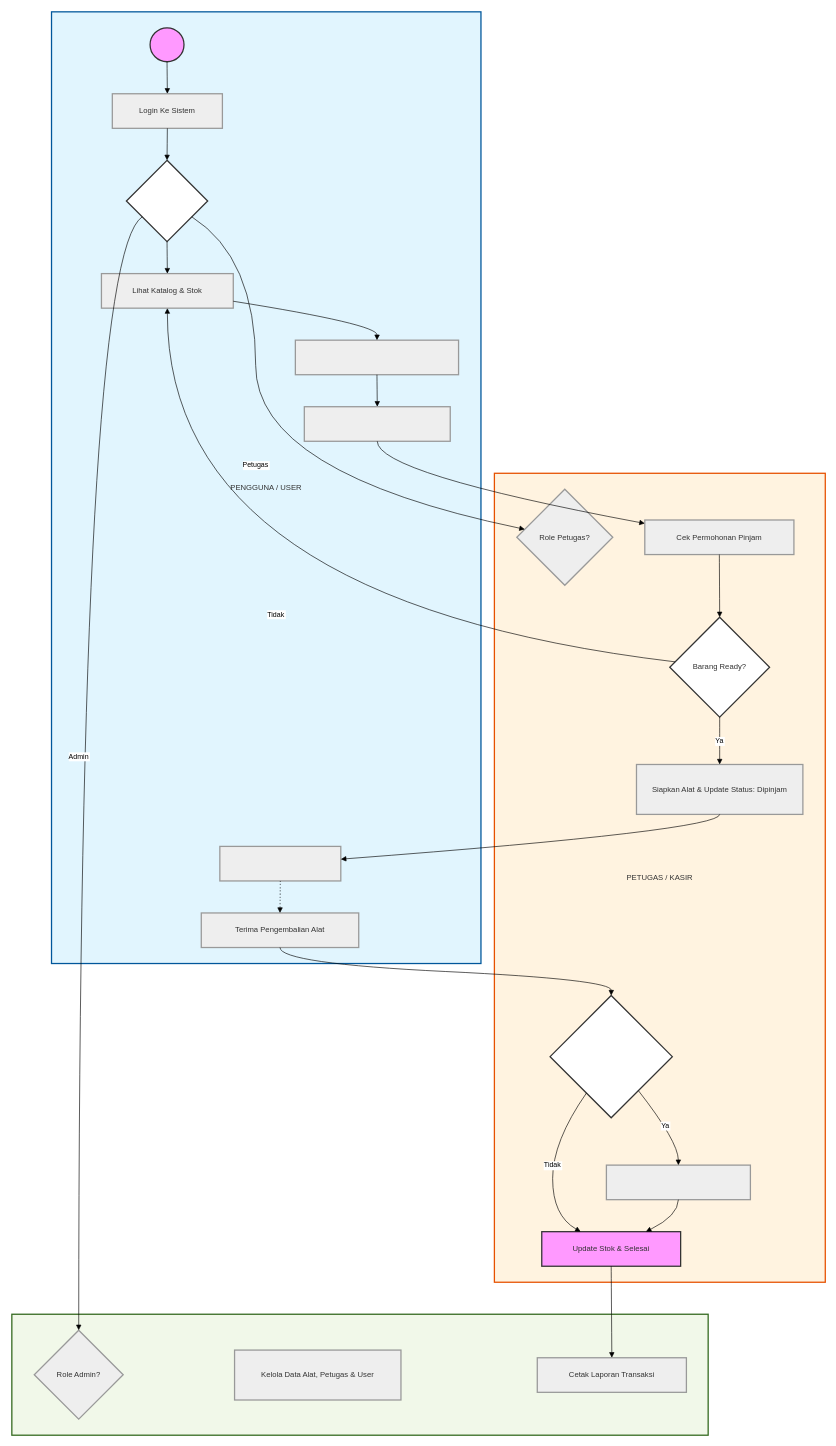
Image size: 836x1446. Some labels were removed from this diagram. The shapes that lost their labels are listed below. From the top down, each one's centre as x and y in pixels, then its label:
At point (166, 44): "Mulai".
At point (166, 200): "Role User?".
At point (376, 357): "Pilih Alat & Isi Form Pinjam".
At point (377, 424): "Konfirmasi Peminjaman".
At point (280, 863): "Bawa Alat ke Toko".
At point (611, 1056): "Terlambat / Rusak?".
At point (678, 1182): "Hitung & Terima Denda".
